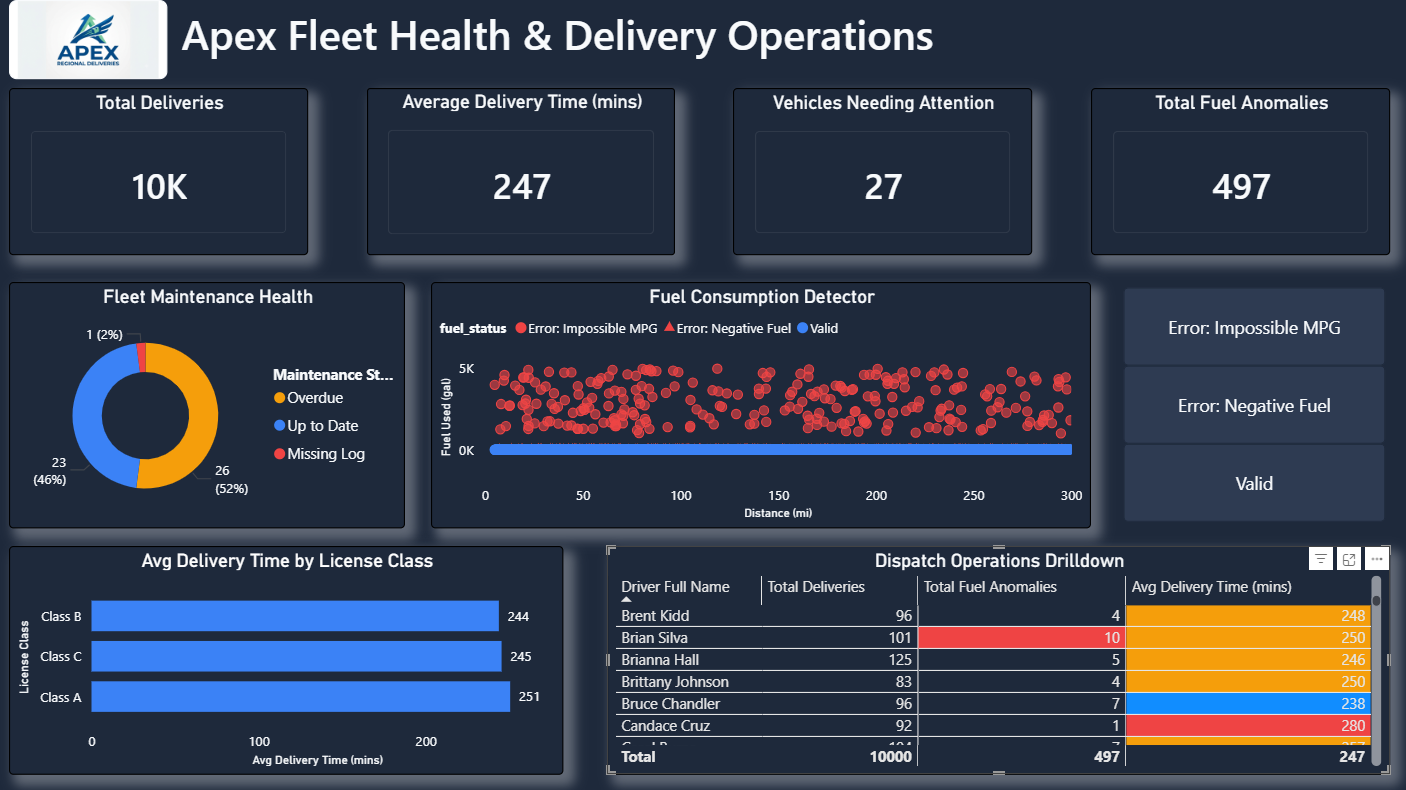

What the dashboard file says about the page in this screenshot:
{"tool":"powerbi","page":{"name":"Page 1","canvas":[1280,720],"ordinal":0},"visuals":[{"type":"textbox","box":[160,0,736,72],"z":0},{"type":"cardVisual","title":"Total Deliveries","fields":{"Data":["delivery_routes_clean.Total Deliveries"]},"box":[8,80,272,152],"z":1000},{"type":"cardVisual","title":"Average Delivery Time  (Mins.)","fields":{"Data":["delivery_routes_clean.Avg Delivery Time (Mins)"]},"box":[333.3,80,280,152],"z":2000},{"type":"cardVisual","title":"Vehicles Needing Attention","fields":{"Data":["vehicles_clean.Vehicles Needing Attention"]},"box":[666.7,80,272,152],"z":3000},{"type":"cardVisual","title":"Total Fuel Anomalies","fields":{"Data":["delivery_routes_clean.Total Fuel Anomalies"]},"box":[992,80,272,152],"z":4000},{"type":"donutChart","title":"Fleet Maintenance Health","fields":{"Category":["vehicles_clean.maintenance_status"],"Y":["CountNonNull(vehicles_clean.vehicle_id)"]},"box":[8,256,360,224],"z":5000},{"type":"scatterChart","title":"Fuel Consumption Detector","fields":{"X":["delivery_routes_clean.distance_miles"],"Y":["delivery_routes_clean.fuel_used_gallons"],"Series":["delivery_routes_clean.fuel_status"]},"box":[392,256,600,224],"z":6000},{"type":"advancedSlicerVisual","title":"Fuel Status","fields":{"Values":["delivery_routes_clean.fuel_status"]},"box":[1016,256,248,224],"z":7000},{"type":"clusteredBarChart","title":"Avg Delivery Time (Mins) by License Class","fields":{"Category":["drivers_clean.license_class"],"Y":["delivery_routes_clean.Avg Delivery Time (Mins)"]},"box":[16,496,504,208],"z":8000},{"type":"pivotTable","title":"Dispatch Operations Drilldown","fields":{"Values":["delivery_routes_clean.Total Deliveries","delivery_routes_clean.Avg Delivery Time (Mins)"],"Rows":["drivers_clean.Driver Full Name"]},"box":[552,496,712,208],"z":8001},{"type":"image","box":[8,0,144,72],"z":8002}]}

Visuals, with their boxes in screenshot pixels (x1, y1, x2, y2), scaled from the page's 1280x720 canvas onto the 1406x790 screenshot:
textbox: {"left": 176, "top": 0, "right": 984, "bottom": 79}
"Total Deliveries" cardVisual: {"left": 9, "top": 88, "right": 308, "bottom": 255}
"Average Delivery Time  (Mins.)" cardVisual: {"left": 366, "top": 88, "right": 674, "bottom": 255}
"Vehicles Needing Attention" cardVisual: {"left": 732, "top": 88, "right": 1031, "bottom": 255}
"Total Fuel Anomalies" cardVisual: {"left": 1090, "top": 88, "right": 1388, "bottom": 255}
"Fleet Maintenance Health" donutChart: {"left": 9, "top": 281, "right": 404, "bottom": 527}
"Fuel Consumption Detector" scatterChart: {"left": 431, "top": 281, "right": 1090, "bottom": 527}
"Fuel Status" advancedSlicerVisual: {"left": 1116, "top": 281, "right": 1388, "bottom": 527}
"Avg Delivery Time (Mins) by License Class" clusteredBarChart: {"left": 18, "top": 544, "right": 571, "bottom": 772}
"Dispatch Operations Drilldown" pivotTable: {"left": 606, "top": 544, "right": 1388, "bottom": 772}
image: {"left": 9, "top": 0, "right": 167, "bottom": 79}
